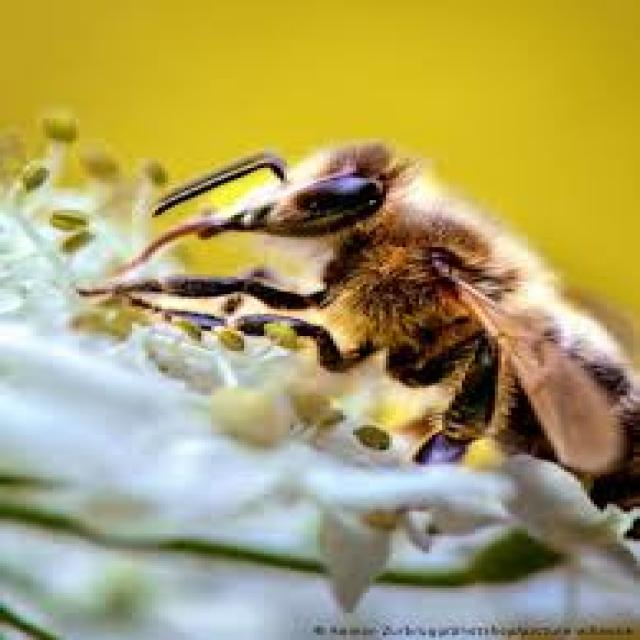Bees: (82, 138, 640, 514)
